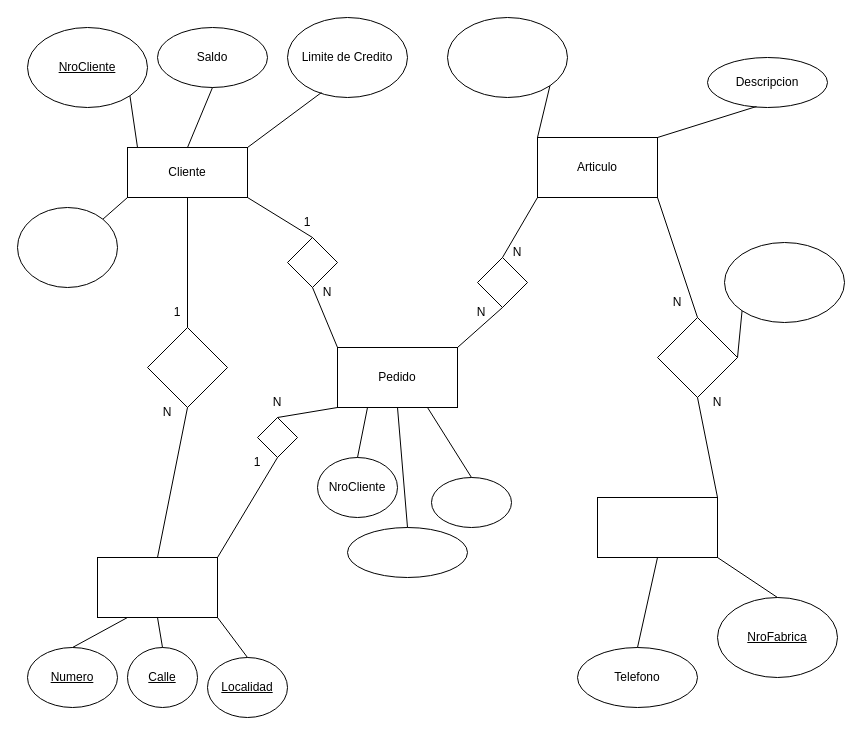
The diagram is 862 pixels wide and 735 high, and some of its shapes have lost their labels. The centre of each missing label's shape, as x and y in pixels:
Descuento: point (67, 247)
Direccion: point (157, 587)
DireccionEnvio: point (407, 552)
Fabrica: point (657, 527)
Fecha: point (471, 502)
NroArticulo: point (507, 57)
Stock en fabrica: point (784, 282)
